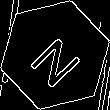N_NE: (23, 23, 87, 87)
